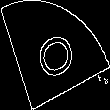O_W: (30, 25, 80, 85)
